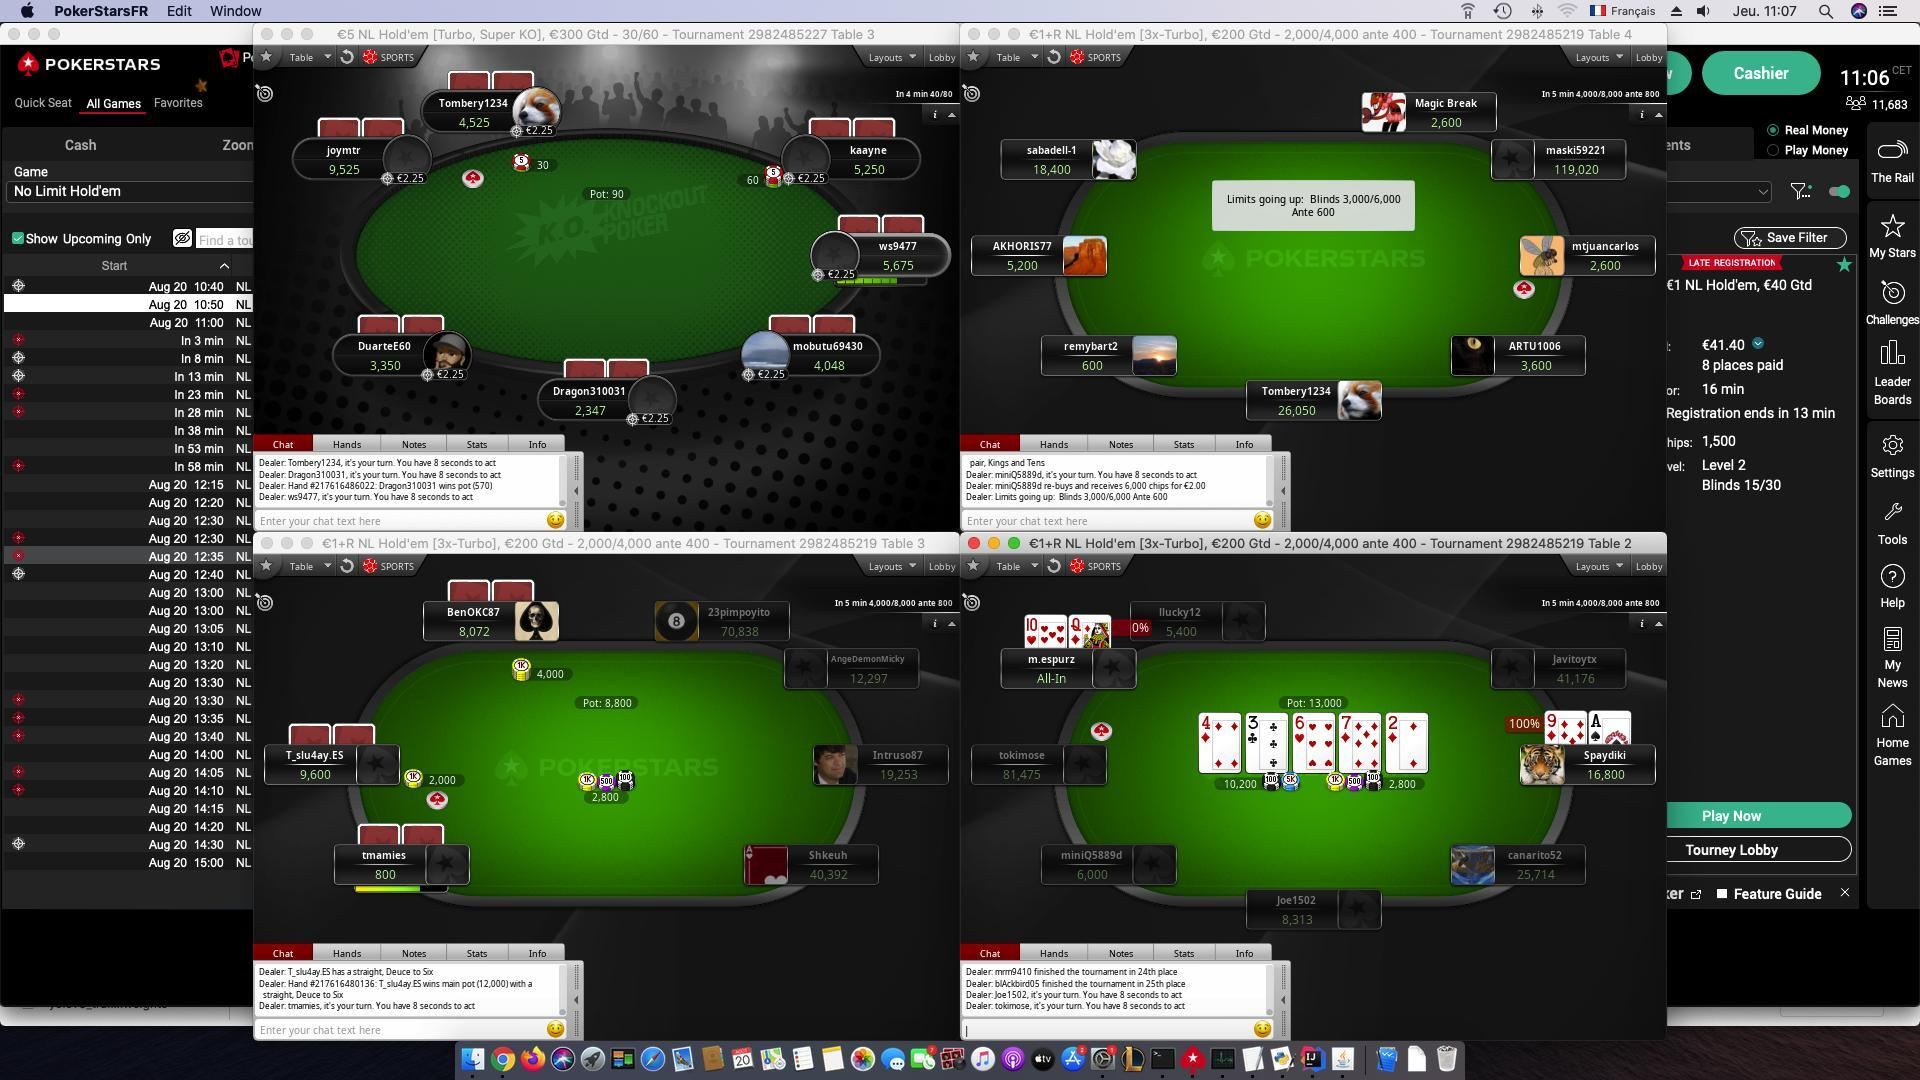10H: (1021, 616, 1043, 649)
2D: (1383, 709, 1402, 742)
3C: (1244, 712, 1262, 748)
4D: (1199, 713, 1218, 749)
6H: (1292, 709, 1311, 745)
7D: (1338, 713, 1357, 746)
9D: (1543, 709, 1563, 744)
AS: (1585, 709, 1605, 744)
QD: (1067, 616, 1087, 647)
